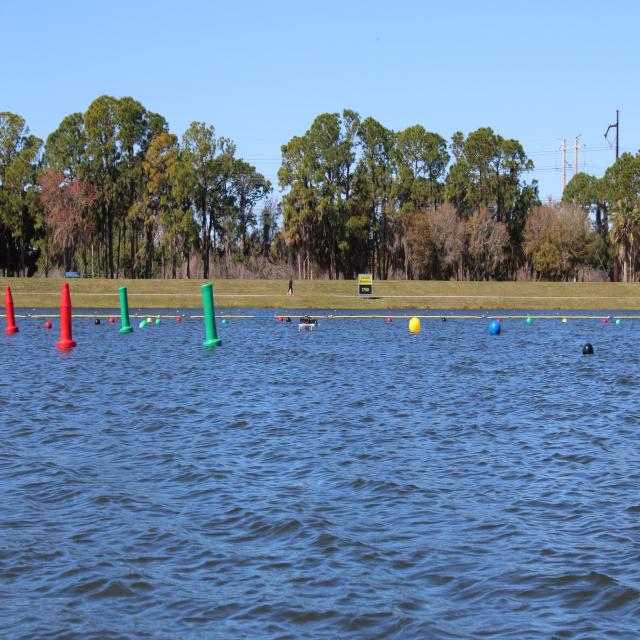black-buoy: (584, 344, 596, 356)
blue-buoy: (490, 320, 501, 336)
green-column-buoy: (202, 283, 222, 347), (118, 288, 131, 334)
red-column-buoy: (59, 282, 76, 348), (4, 284, 18, 333)
yellow-buoy: (410, 316, 422, 334)
